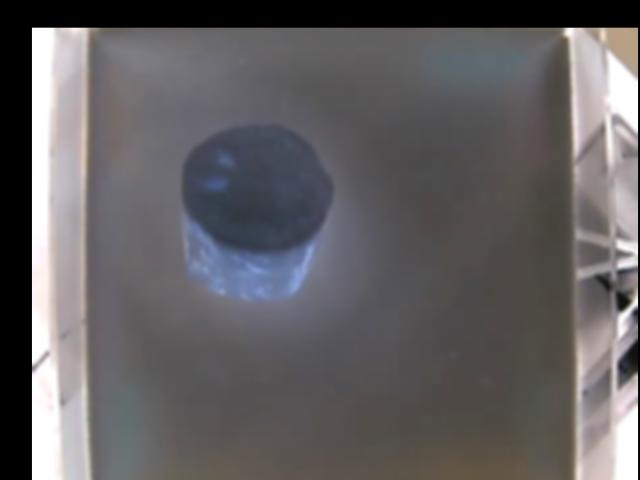Mooli: (179, 120, 334, 301)
